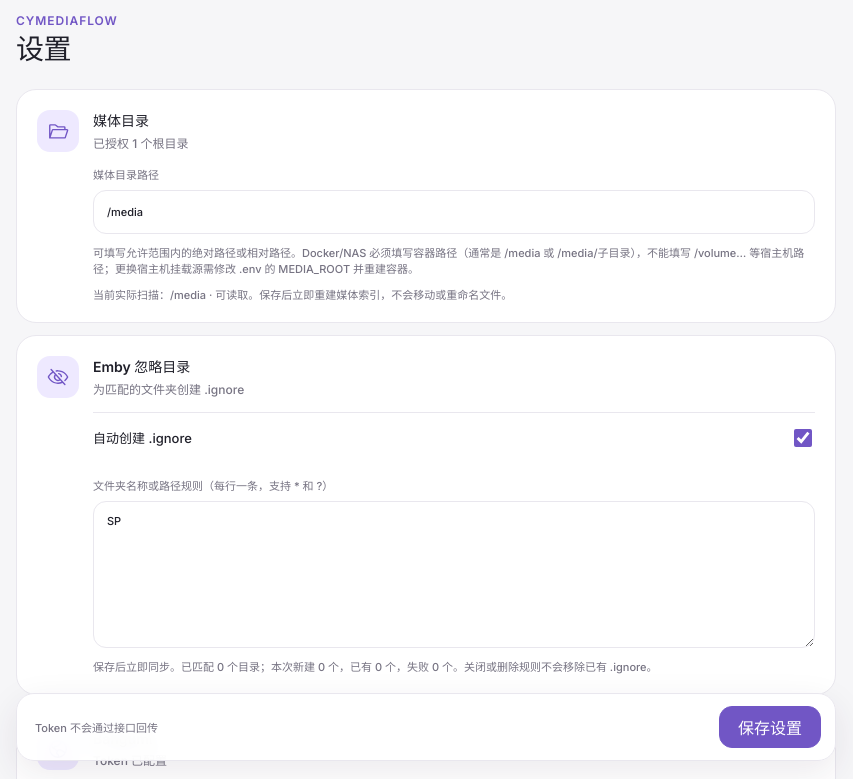
Scenario: SettingsPage › shows the backend path validation message
Replace the text in the field showing "/media" with "/volume2/media": (454, 212) [93,190,815,234]
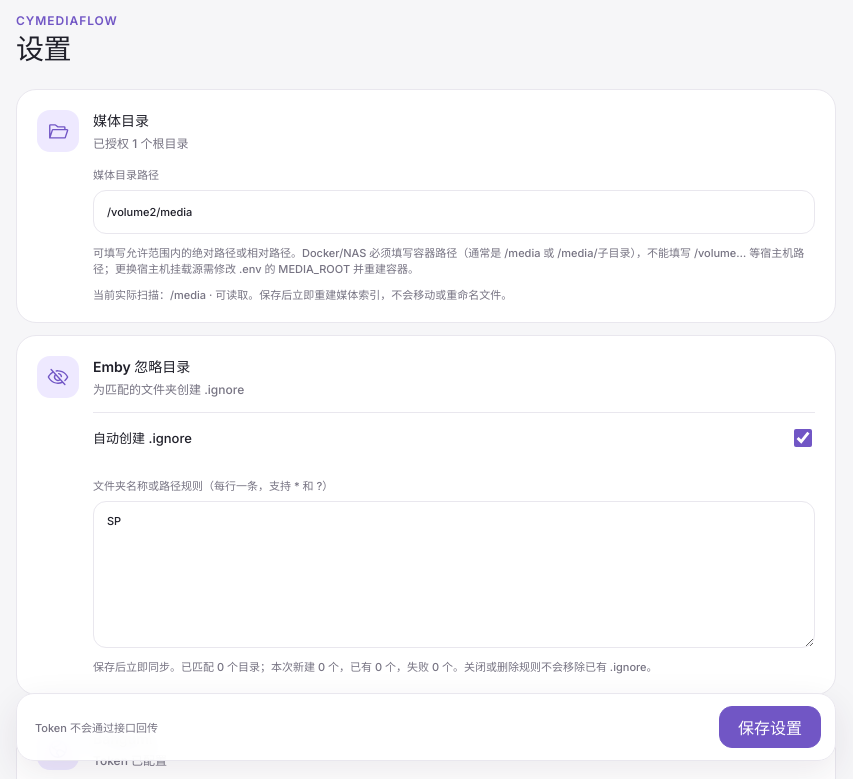
Click the button "保存设置": (770, 727) [719,706,821,748]
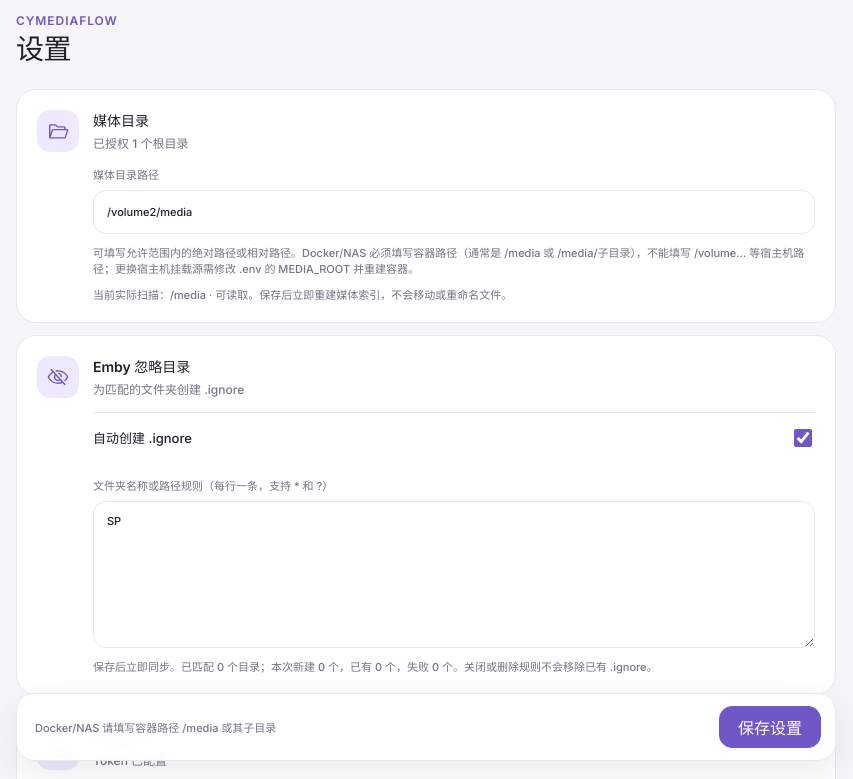
expect the text "Docker/NAS 请填写容器路径 /media 或其子目录" is shown: met, box [35,719,276,735]
